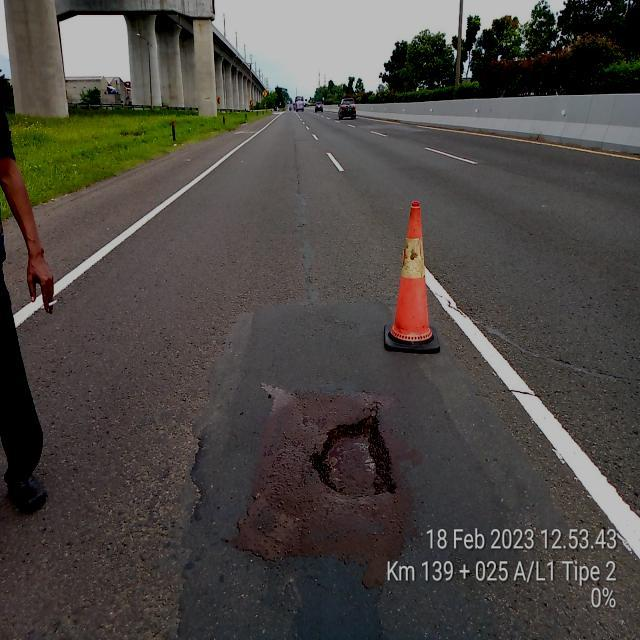Buraco: (303, 399, 401, 501)
